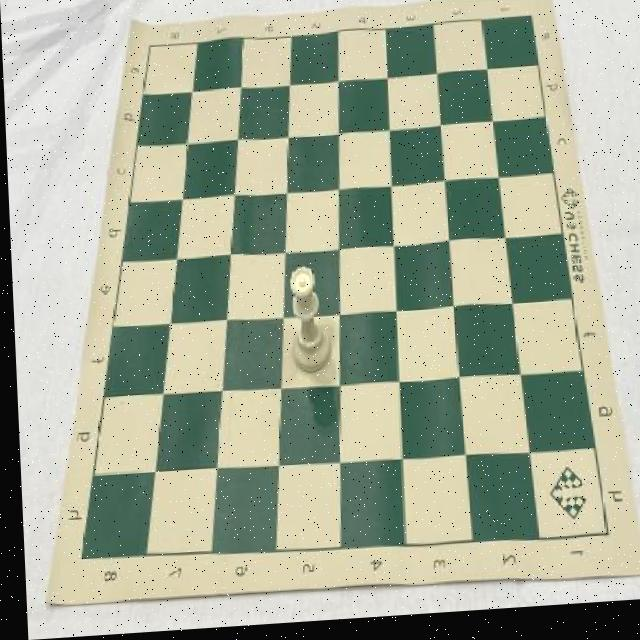white-pawn: (284, 268, 329, 379)
